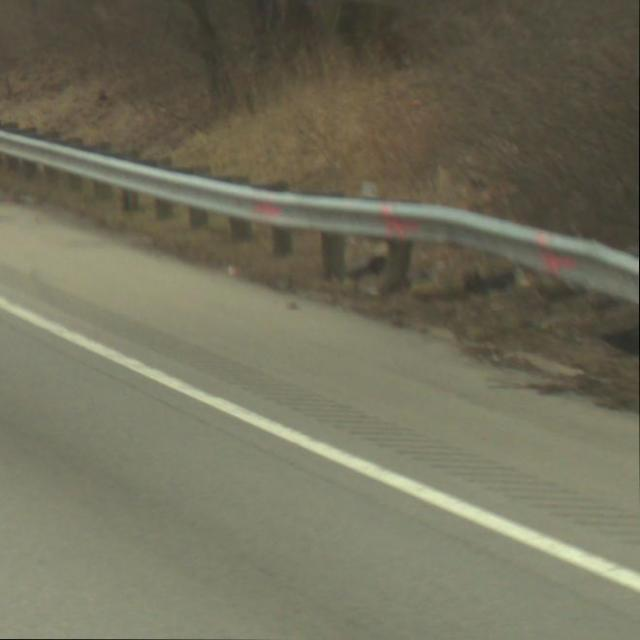Guard rail: (2, 122, 638, 351)
